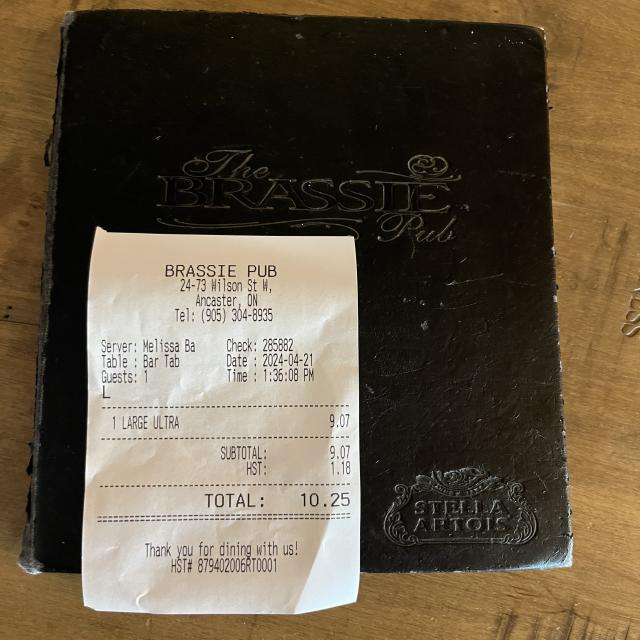item: (118, 410, 355, 435)
store_name: (158, 259, 285, 282)
total_amount: (198, 487, 356, 514)
transaction_date: (259, 351, 319, 370)
